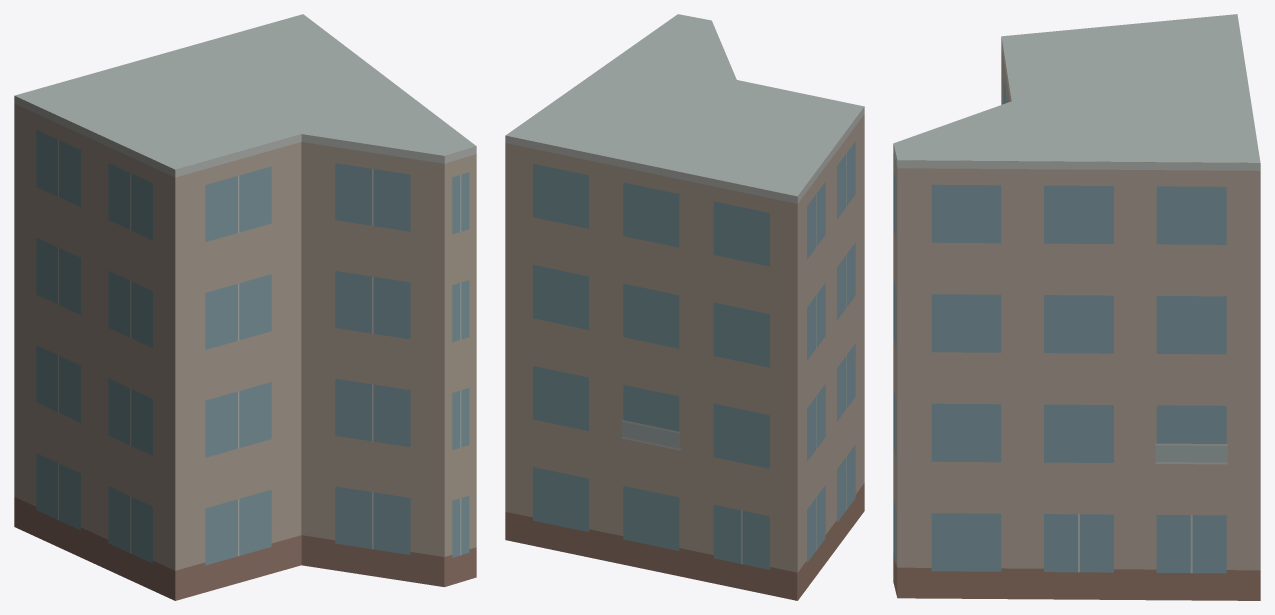
Rendered from survey-upis-32464090.glb.
3 renders of one model, left to right at view 1: azimuth 30°, elevation 25°; view 2: azimuth 150°, elevation 25°; view 3: azimuth 270°, elevation 25°, orthographic. The views are drawn at different scales.
Visible parts, largest first — view 1: survey-upis-32464090.tmp; view 2: survey-upis-32464090.tmp; view 3: survey-upis-32464090.tmp.
Boxes of the visible parts, <box> form: survey-upis-32464090.tmp: <box>14,14,476,600</box>; survey-upis-32464090.tmp: <box>505,14,864,600</box>; survey-upis-32464090.tmp: <box>893,14,1260,600</box>.
Bounding box in the file's own units: 9.79 × 13.4 × 10.19.
